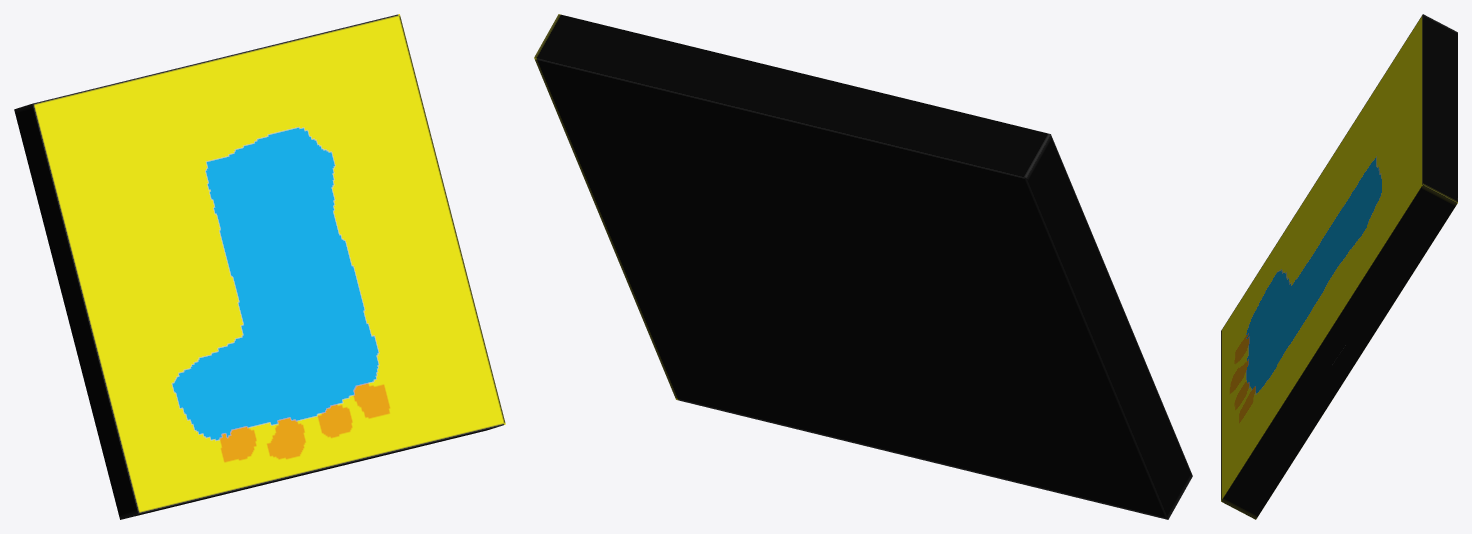
File: item_skate.fbx
The picture shows the model from 3 angles, left to right: view 1: azimuth 30°, elevation 25°; view 2: azimuth 150°, elevation 25°; view 3: azimuth 270°, elevation 25°; orthographic projection. The views are drawn at different scales.
Parts seen in each view (by area): view 1: Body; view 2: Body; view 3: Body.
Part boxes in pixels (x1,y1,x2,y2): Body: (14, 14, 505, 519); Body: (534, 14, 1192, 519); Body: (1221, 14, 1457, 519).
Size of the model in its own units: 200 by 183 by 117.
